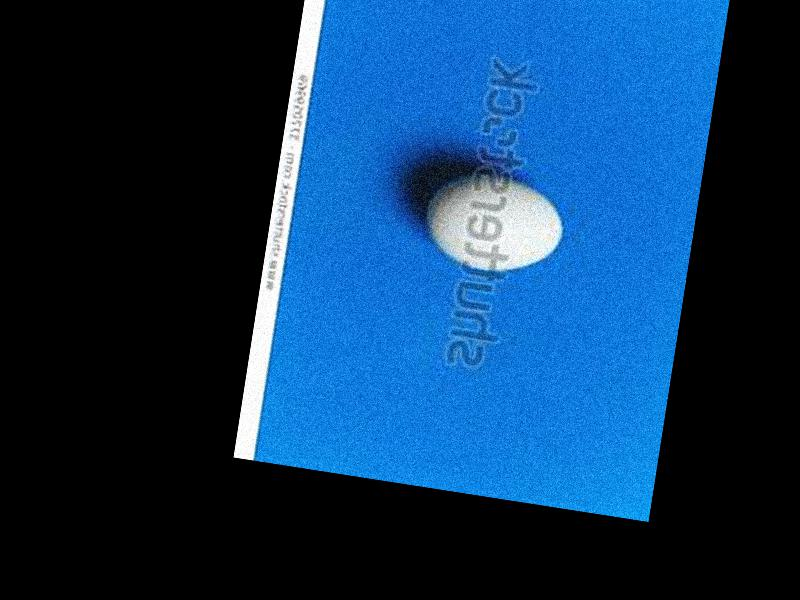Eggs: (420, 166, 573, 279)
